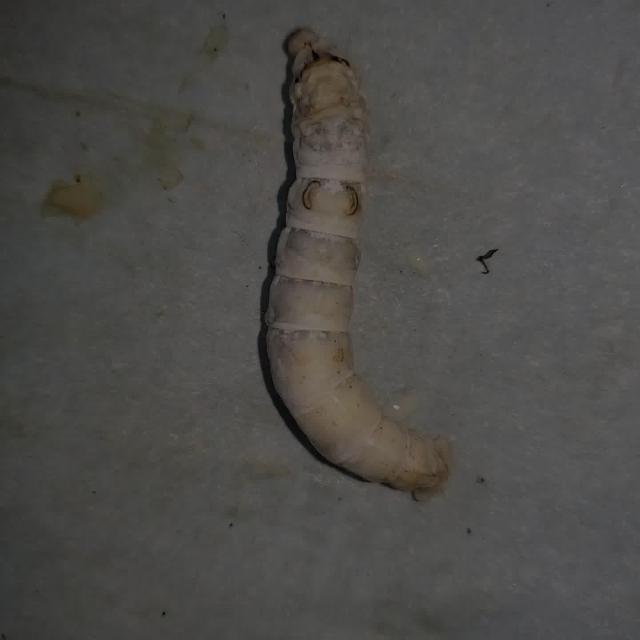Grasserie: (237, 12, 469, 499)
